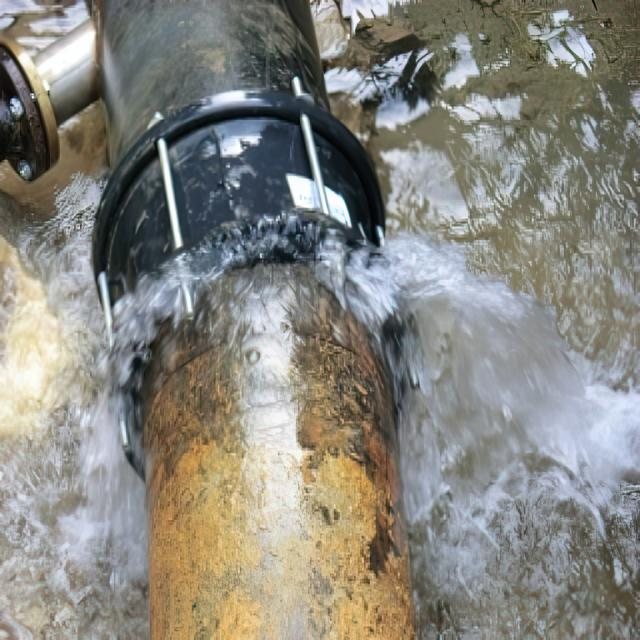leak: (315, 235, 640, 638), (0, 255, 218, 638)
